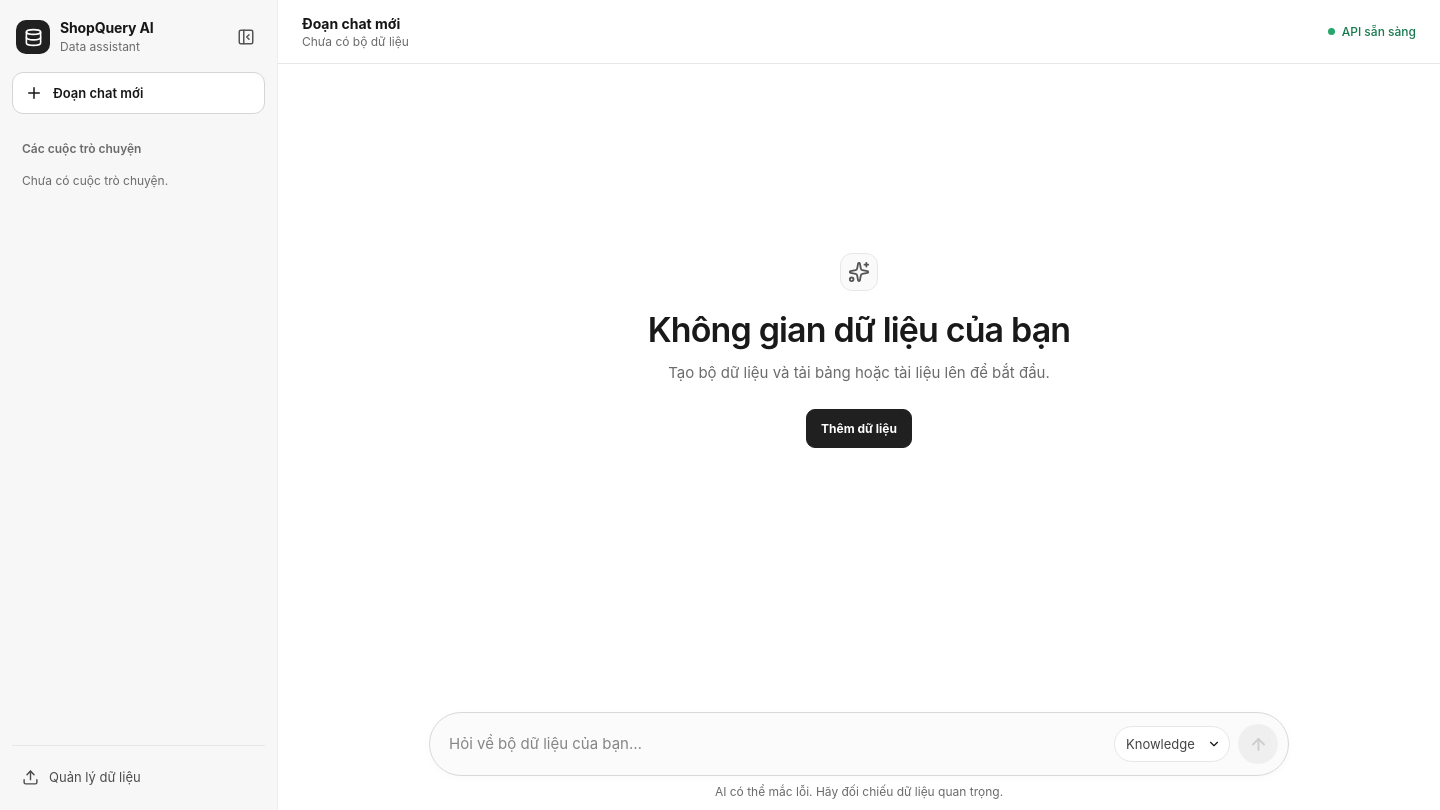
Test: shows a clean workspace without demo prompts or chat requests when there is no data
Expected: the heading "Không gian dữ liệu của bạn" is shown, [648, 309, 1070, 351]
Expected: the text "Chưa có bộ dữ liệu" is shown, [302, 34, 409, 48]
Type "Tổng học phí?" into the text box named "Nhập câu hỏi cho ShopQuery AI" at (776, 744), box [449, 723, 1104, 765]
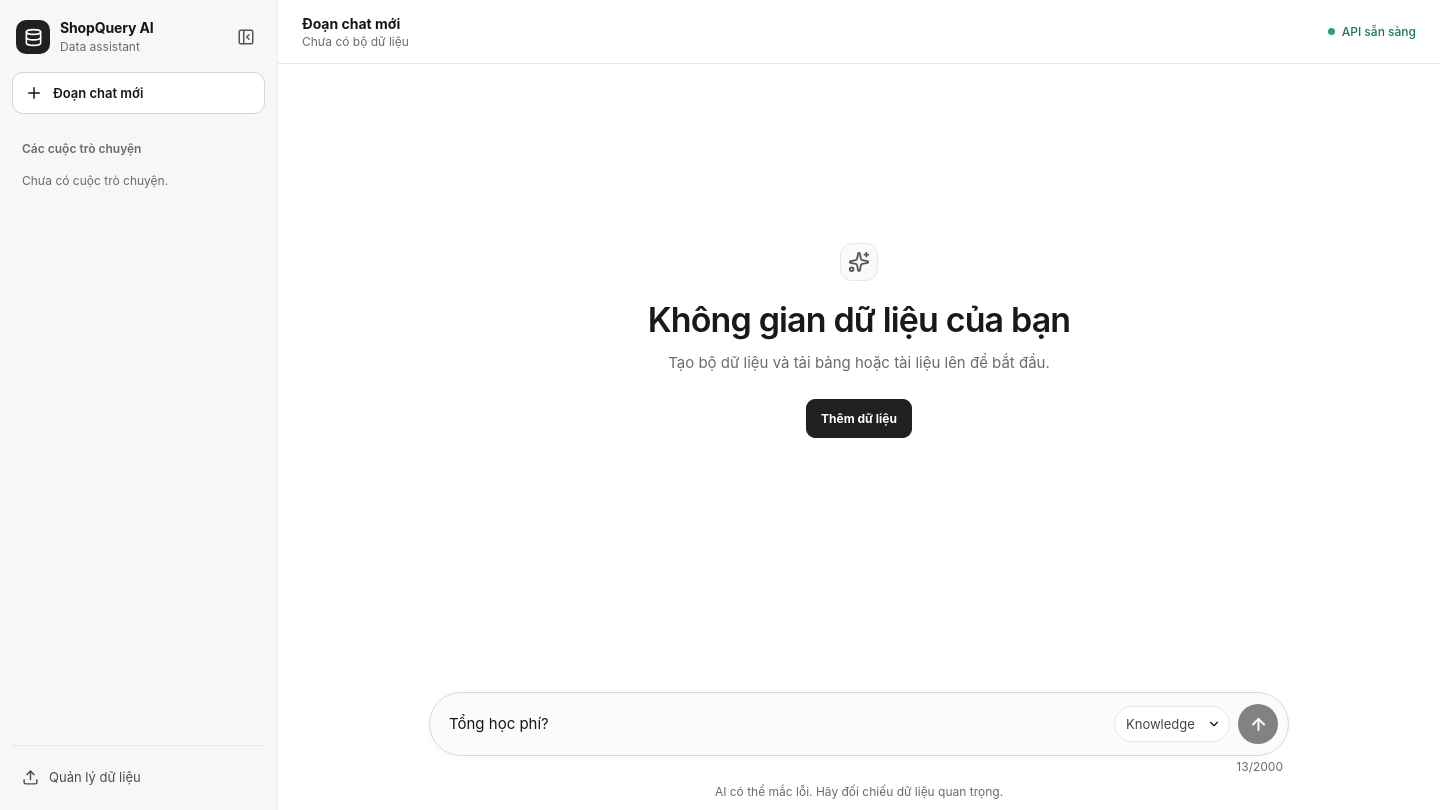
Press Enter in the text box named "Nhập câu hỏi cho ShopQuery AI", box [449, 703, 1104, 745]
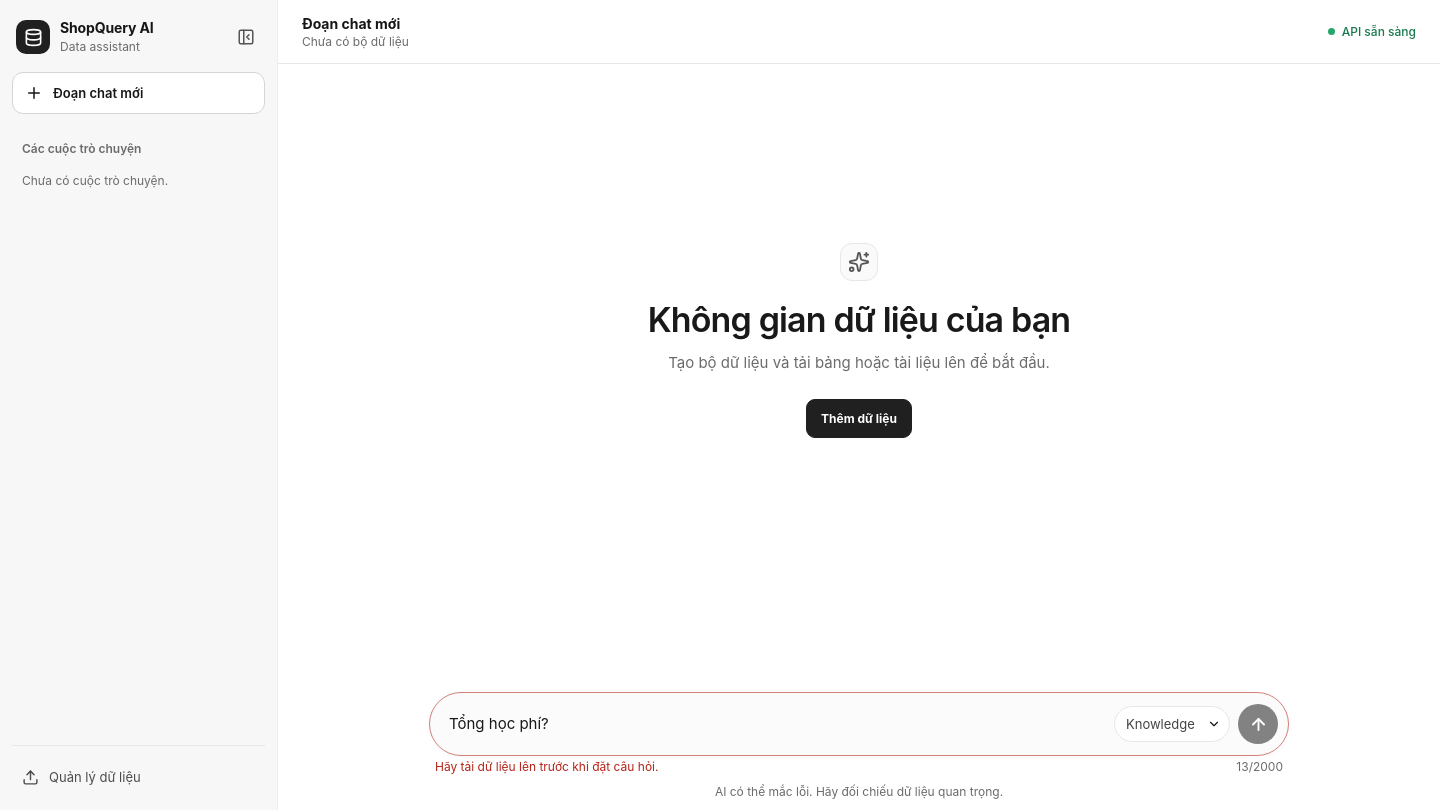
Now the message "Hãy tải dữ liệu lên trước khi đặt câu hỏi." is shown, box [435, 759, 658, 776]
Click the button "Thêm dữ liệu" at (859, 419), box [806, 399, 912, 438]
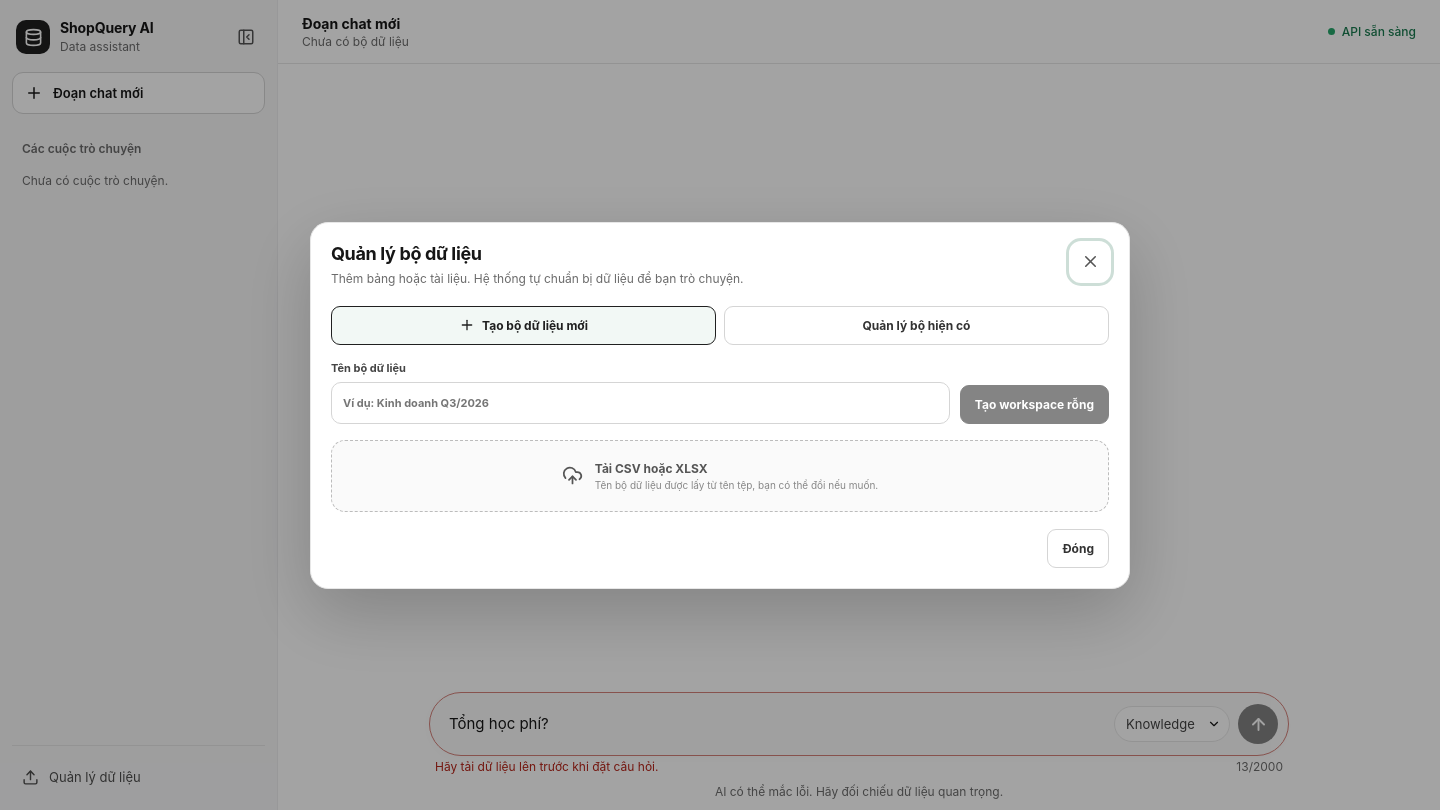
Now the dialog is shown, box [310, 222, 1130, 588]
